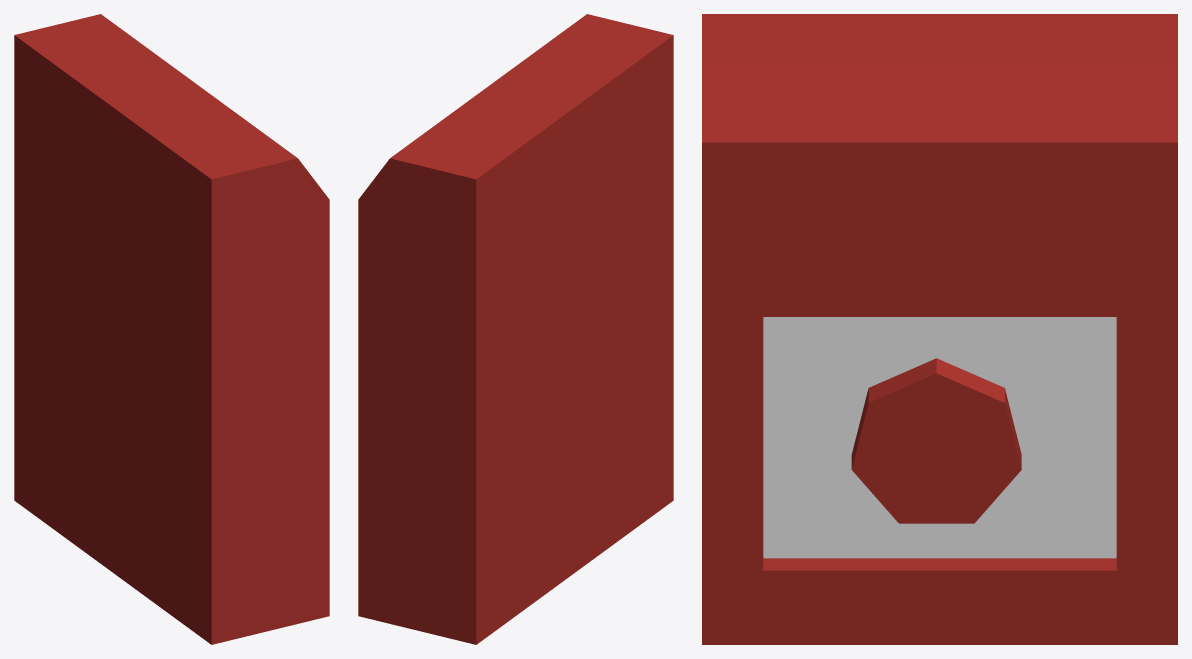
The model's file is SM_FireAlarm_02.glb.
3 renders of one model, left to right at view 1: azimuth 30°, elevation 25°; view 2: azimuth 150°, elevation 25°; view 3: azimuth 270°, elevation 25°, orthographic. The views are drawn at different scales.
Parts seen in each view (by area): view 1: SM_FireAlarm_02; view 2: SM_FireAlarm_02; view 3: SM_FireAlarm_02.
Boxes of the visible parts, left/top/right/bottom form: SM_FireAlarm_02: left=14, top=14, right=329, bottom=644; SM_FireAlarm_02: left=358, top=14, right=673, bottom=644; SM_FireAlarm_02: left=702, top=14, right=1177, bottom=644.
Bounding box in the file's own units: 0.0677 × 0.2461 × 0.189.
1 material, 1 textured.
